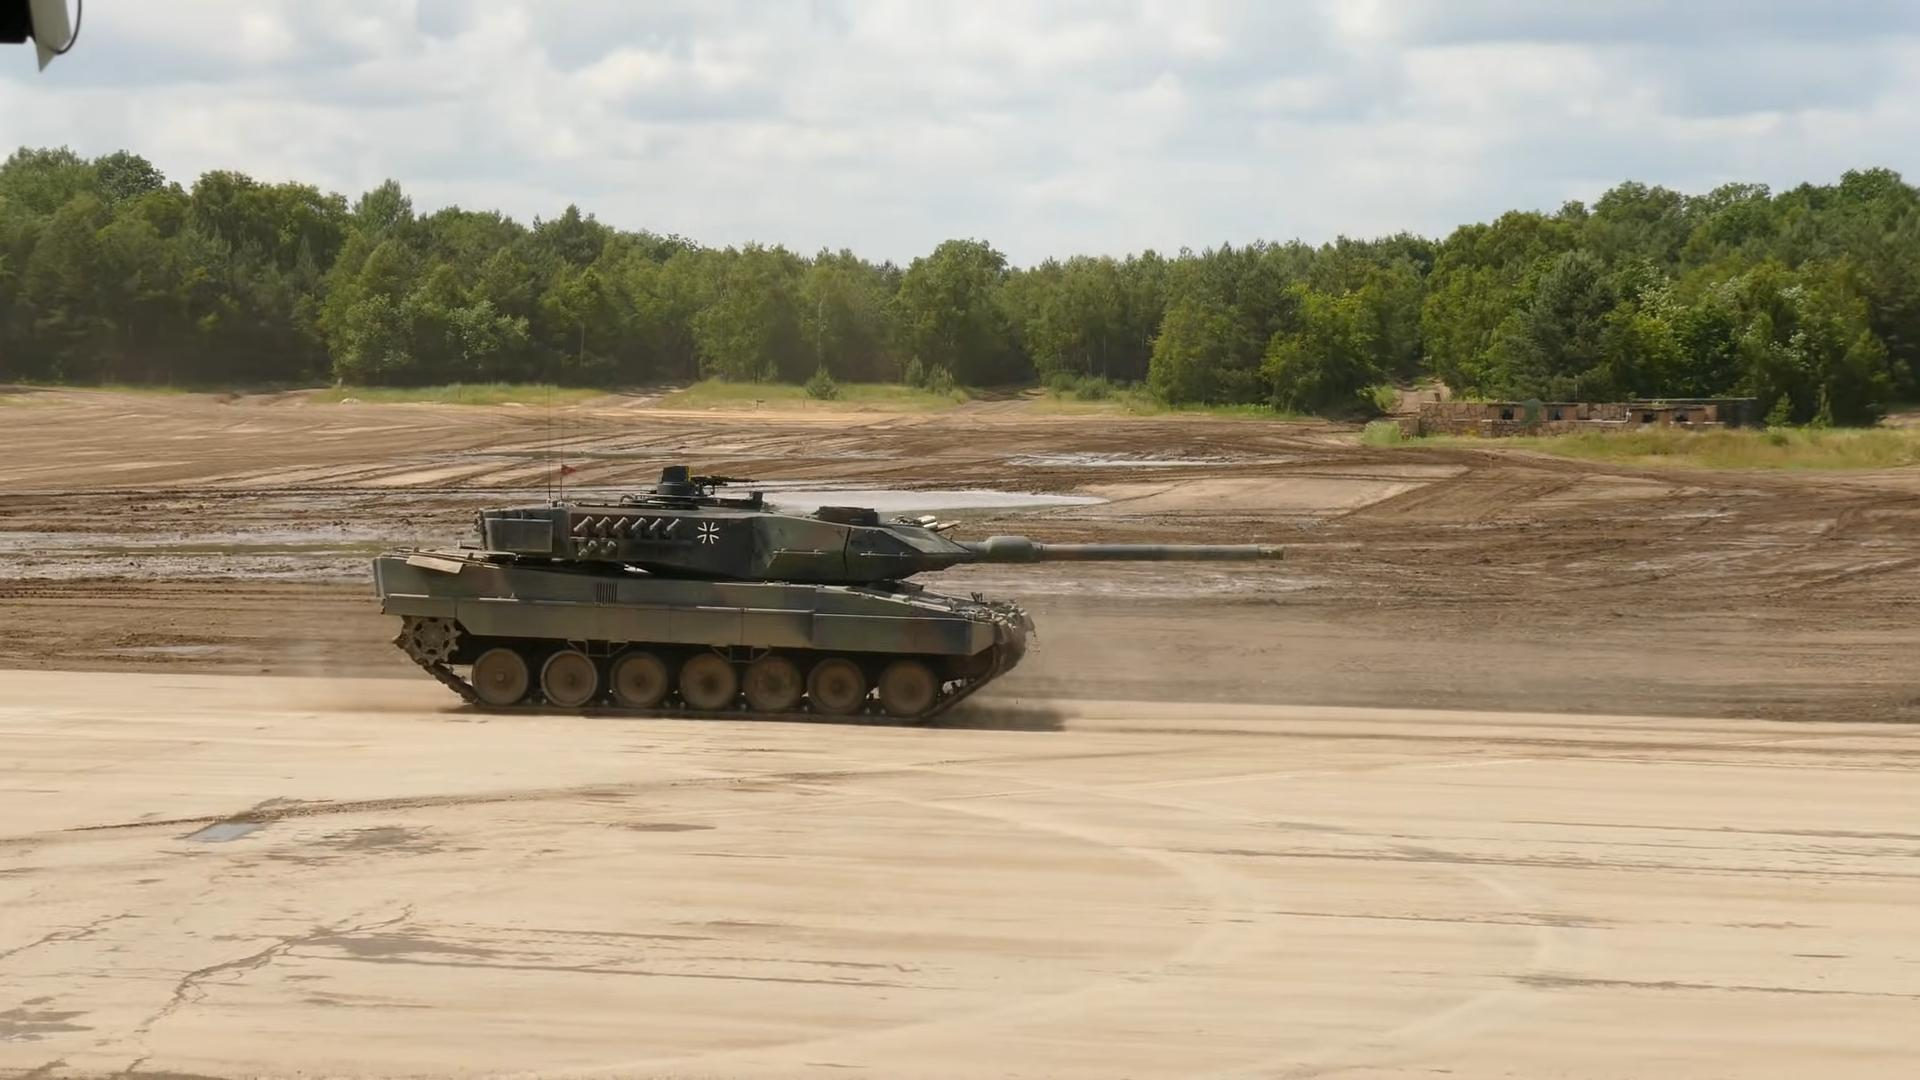tank: (376, 464, 1287, 727)
